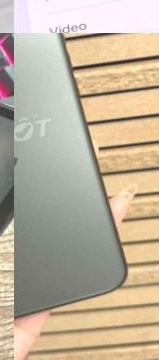scratch: (0, 44, 14, 215)
